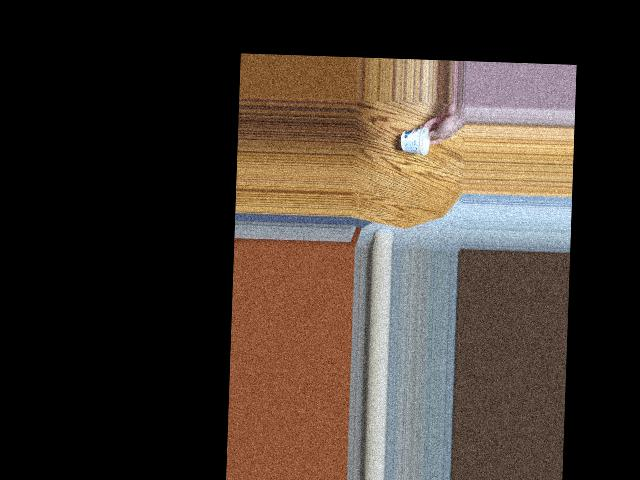cotage: (404, 128, 435, 158)
